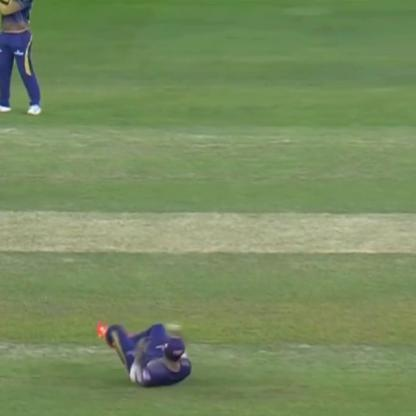ball: (159, 318, 183, 333)
